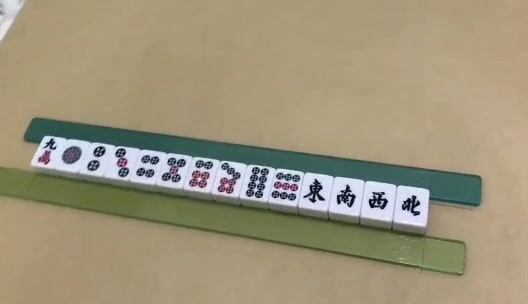1p: (62, 146, 82, 164)
1z: (304, 179, 324, 203)
2p: (89, 146, 105, 171)
2z: (336, 185, 356, 208)
3p: (115, 148, 129, 178)
3z: (368, 193, 389, 210)
4p: (138, 155, 159, 178)
4z: (402, 194, 423, 216)
5p: (162, 157, 185, 184)
6p: (189, 159, 213, 189)
7p: (219, 163, 240, 194)
8p: (246, 168, 269, 200)
9m: (39, 138, 57, 166)
9p: (272, 172, 299, 202)
